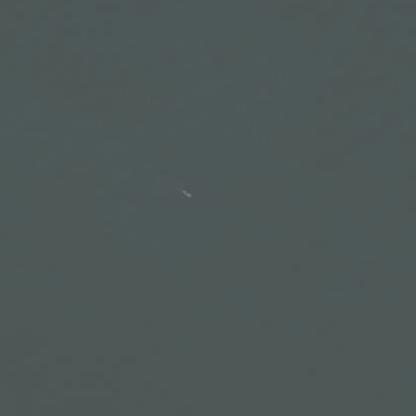ship: (0, 21, 11, 33)
